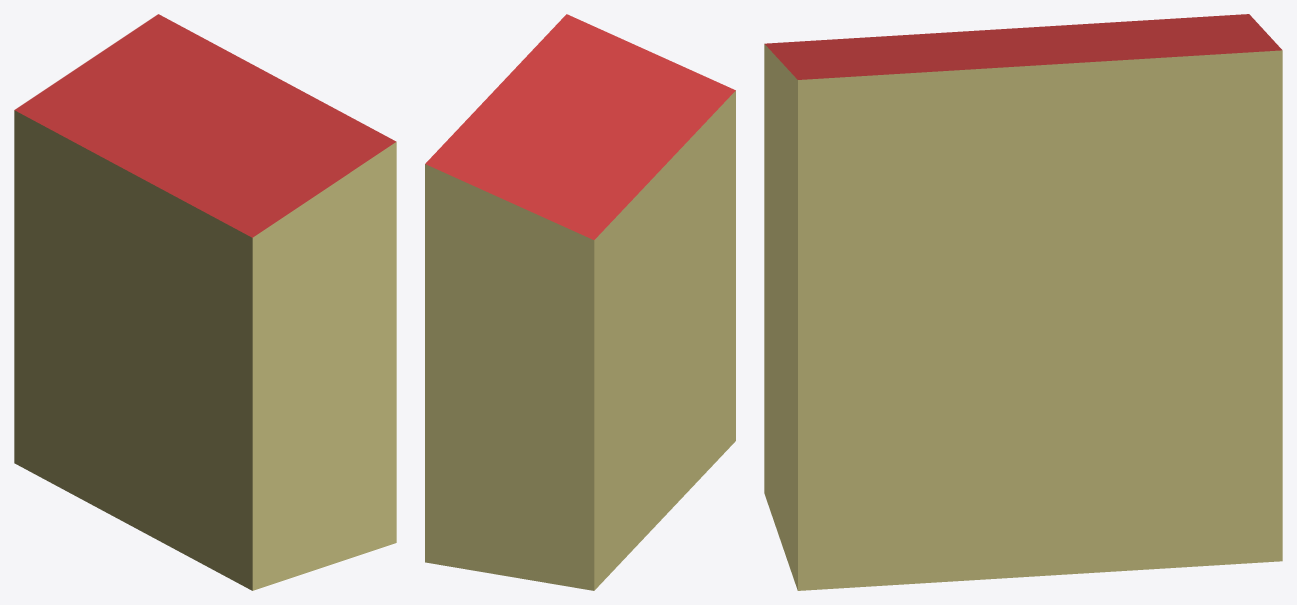
3 views of the same model, side by side, from view 1: azimuth 30°, elevation 25°; view 2: azimuth 150°, elevation 25°; view 3: azimuth 270°, elevation 25° (orthographic). The views are drawn at different scales.
Bounding box in the file's own units: 3.85 × 6.61 × 7.19.
